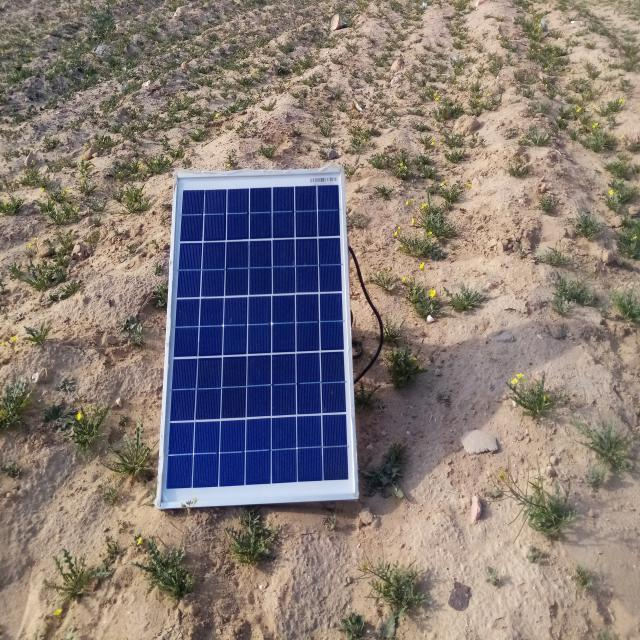Normal Solar Panel: (160, 168, 358, 505)
